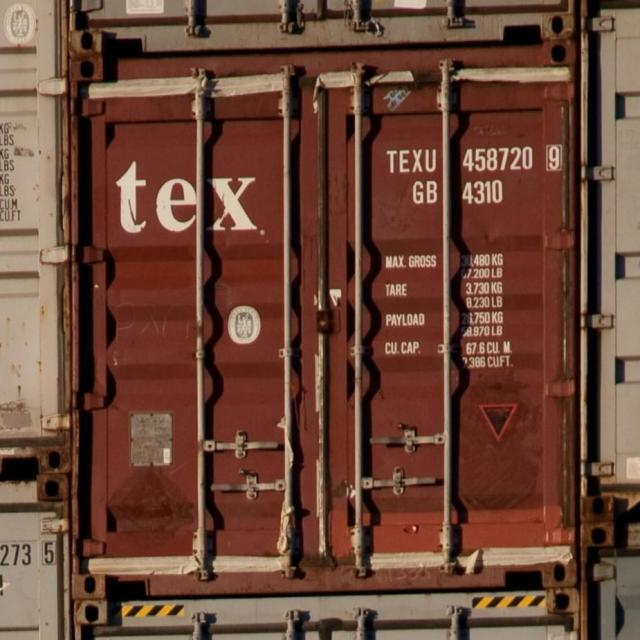ISO: (408, 179, 508, 205)
container_number: (382, 146, 566, 175)
